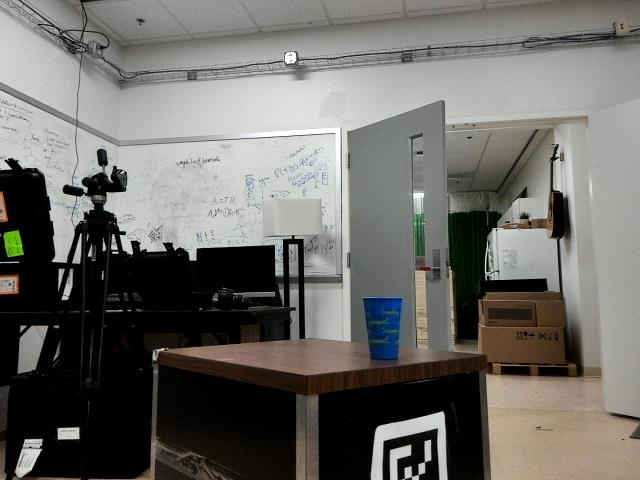water_cup: (358, 293, 405, 364)
